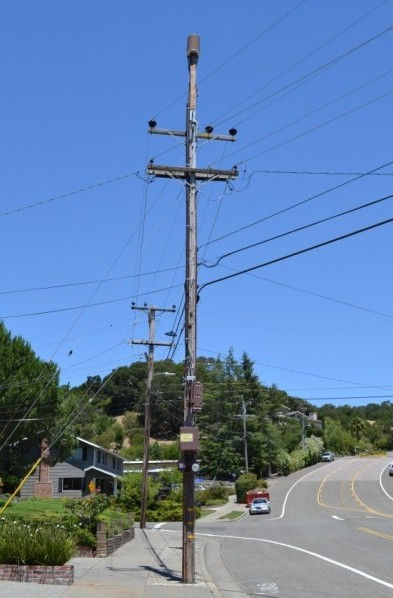utility_pole: (130, 20, 249, 212), (121, 291, 181, 363)
